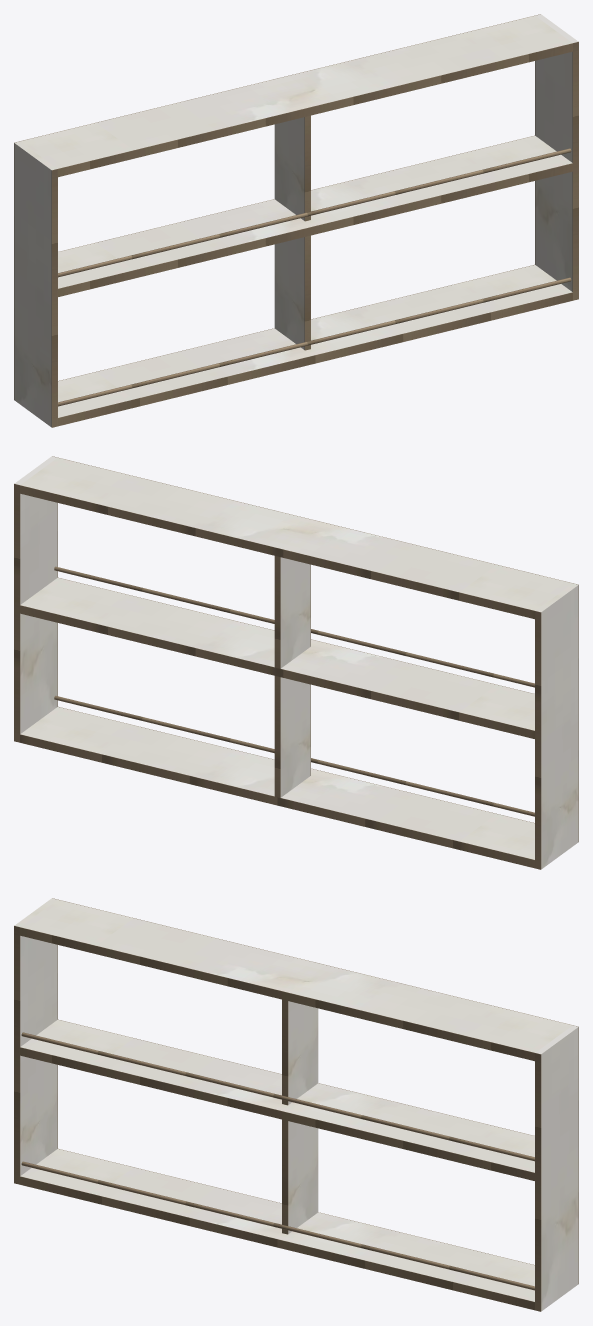
File: Tark 1200mm.glb
3 renders of one model, top to bottom at view 1: azimuth 30°, elevation 25°; view 2: azimuth 150°, elevation 25°; view 3: azimuth 330°, elevation 25°, orthographic.
Bounding box in the file's own units: 1.2 × 0.56 × 0.15.
2 materials, 2 textured.
